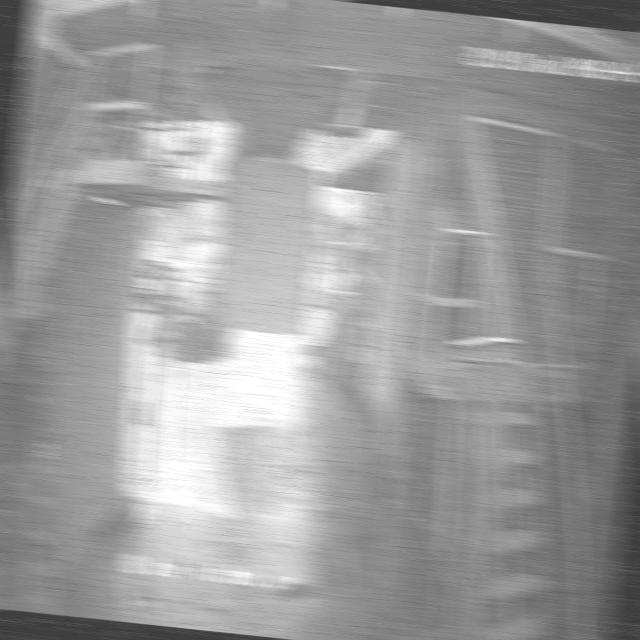cement_mixer_truck: (154, 239, 238, 359)
